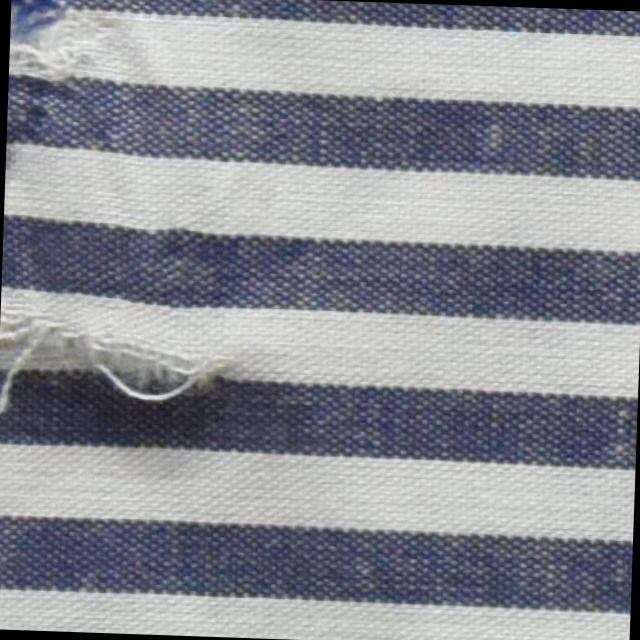cut: (0, 301, 251, 402), (6, 0, 85, 147)
